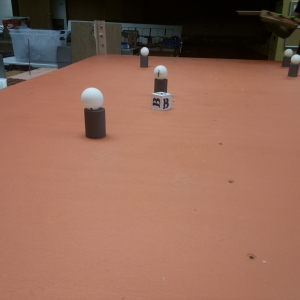blockB: (152, 91, 173, 112)
corner: (92, 19, 107, 56)
obstacle: (80, 86, 110, 141), (152, 64, 171, 91), (137, 46, 151, 69), (293, 56, 300, 78), (282, 48, 291, 65)
